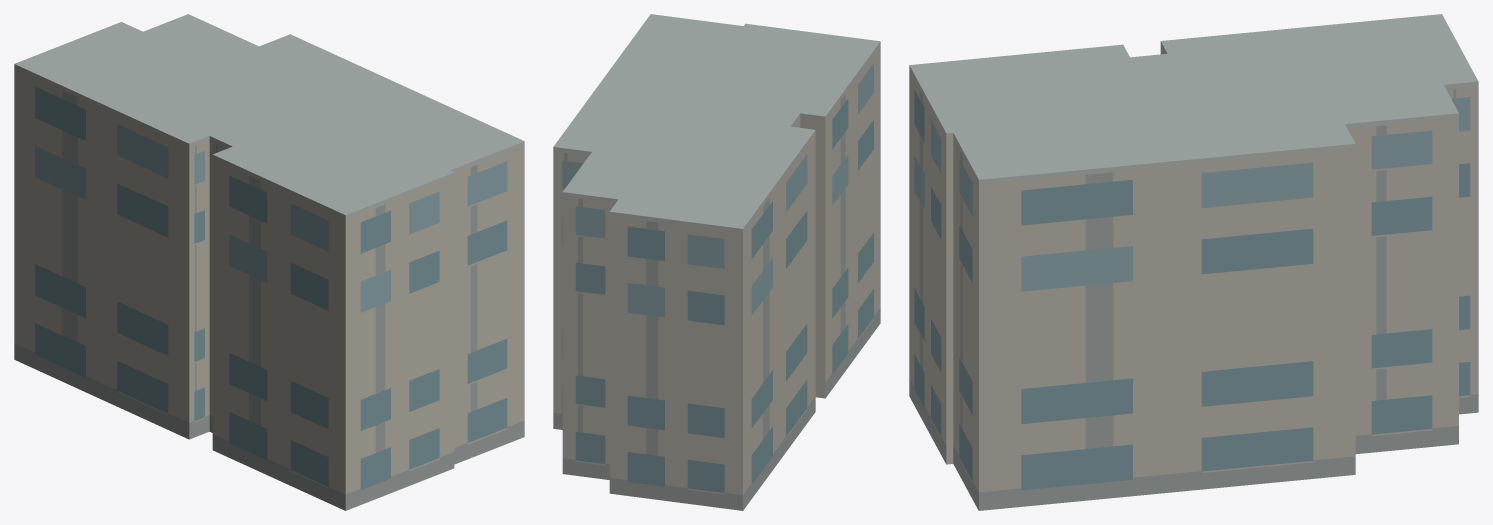
File: survey-upis-32992640.glb
3 renders of one model, left to right at view 1: azimuth 30°, elevation 25°; view 2: azimuth 150°, elevation 25°; view 3: azimuth 270°, elevation 25°, orthographic. The views are drawn at different scales.
Visible parts, largest first — view 1: survey-upis-32992640.tmp; view 2: survey-upis-32992640.tmp; view 3: survey-upis-32992640.tmp.
Part boxes in pixels (bbox=[...]): survey-upis-32992640.tmp: bbox=[14, 14, 524, 510]; survey-upis-32992640.tmp: bbox=[553, 14, 880, 510]; survey-upis-32992640.tmp: bbox=[909, 14, 1478, 510].
Size of the model in its own units: 16.5 by 15.35 by 23.93.
